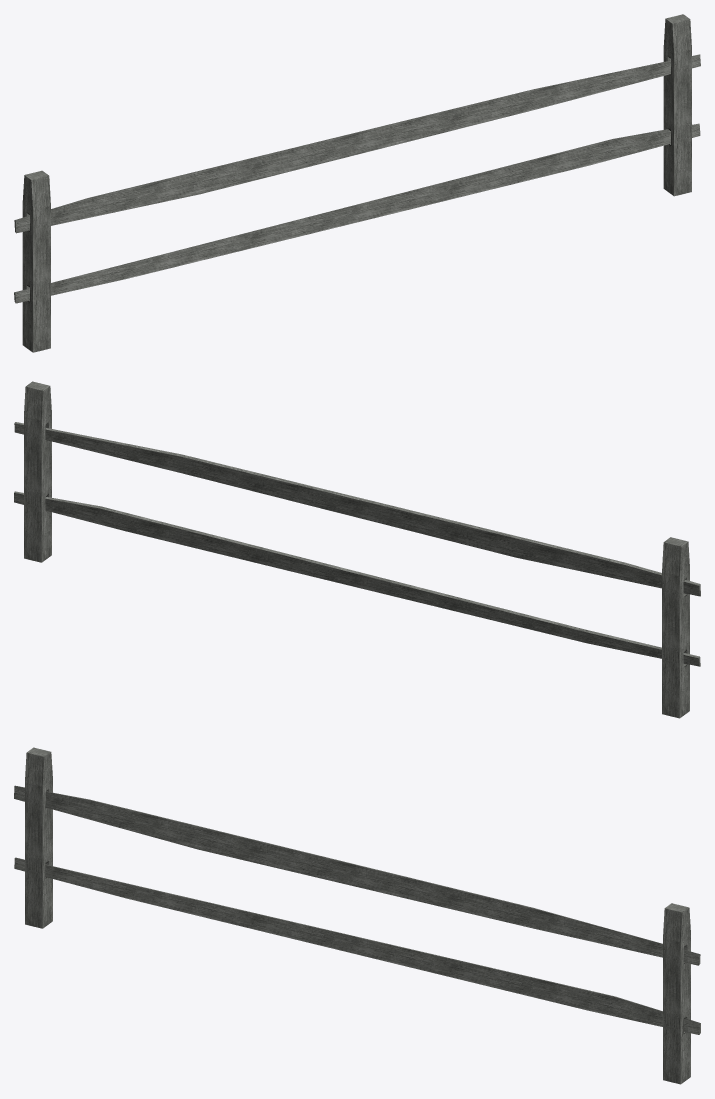
Rendered from Wooden fence.FBX.
3 views of the same model, one above another, from view 1: azimuth 30°, elevation 25°; view 2: azimuth 150°, elevation 25°; view 3: azimuth 330°, elevation 25° (orthographic).
Visible parts, largest first — view 1: W_F_3, W_F_1_4, W_F_2, W_F_1; view 2: W_F_3, W_F_1_4, W_F_2, W_F_1; view 3: W_F_3, W_F_1_4, W_F_1, W_F_2.
Boxes of the visible parts, box(x1,y1,x2,y2) form: W_F_3: box(14, 54, 700, 233); W_F_1_4: box(14, 123, 700, 303); W_F_2: box(22, 170, 50, 352); W_F_1: box(663, 14, 691, 196); W_F_3: box(14, 422, 700, 596); W_F_1_4: box(14, 491, 700, 666); W_F_2: box(662, 537, 689, 718); W_F_1: box(24, 381, 51, 562); W_F_3: box(14, 785, 700, 965); W_F_1_4: box(14, 857, 700, 1034); W_F_1: box(663, 903, 690, 1084); W_F_2: box(25, 747, 52, 928).
Bounding box in the file's own units: 646 × 16.88 × 154.
